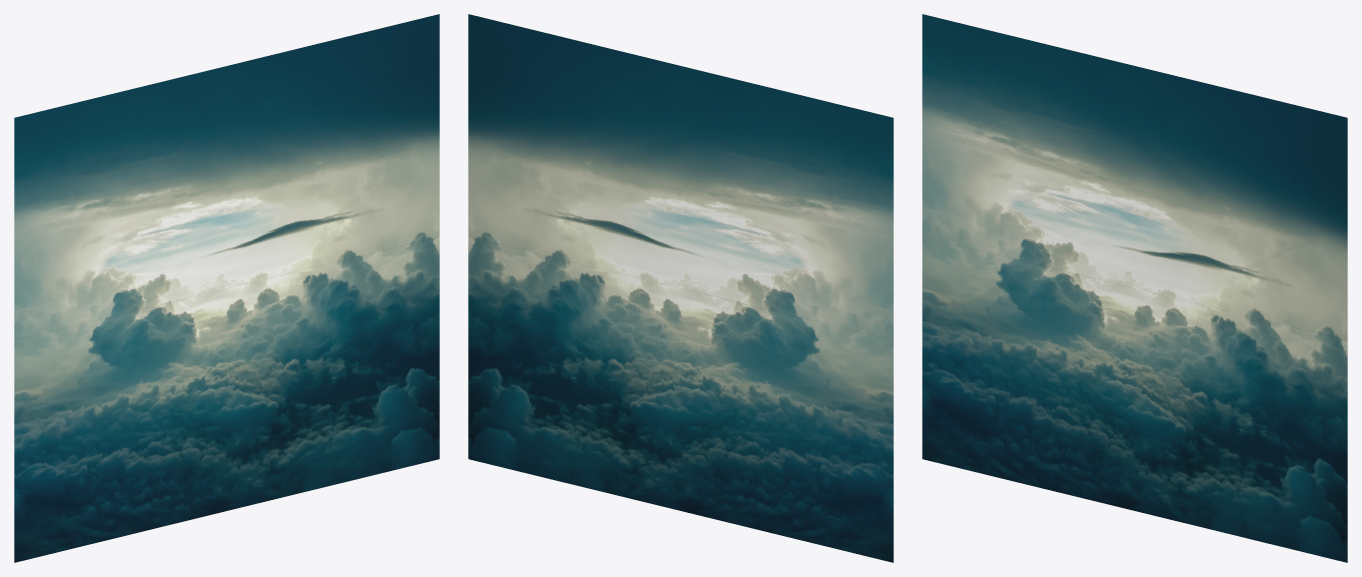
Rendered from tiled_plane.glb.
The picture shows the model from 3 angles, left to right: view 1: azimuth 30°, elevation 25°; view 2: azimuth 150°, elevation 25°; view 3: azimuth 330°, elevation 25°; orthographic projection.
Parts seen in each view (by area): view 1: Plane001; view 2: Plane001; view 3: Plane001.
Boxes of the visible parts, left/top/right/bottom form: Plane001: left=14, top=14, right=439, bottom=562; Plane001: left=468, top=14, right=893, bottom=562; Plane001: left=922, top=14, right=1347, bottom=562.
Bounding box in the file's own units: 4.83 × 4.83 × 8.14e-07.
Materials: 4 (4 with a texture image).
